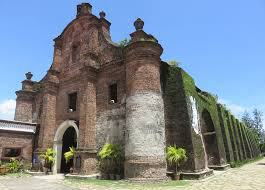Sta. Maria Church: (15, 2, 168, 181)
Unfinished Paint: (96, 94, 170, 156)
